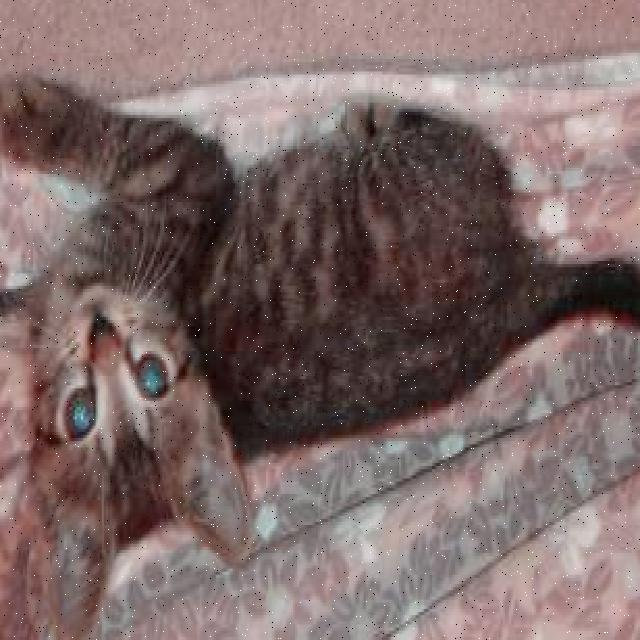Cat: (38, 274, 250, 606)
